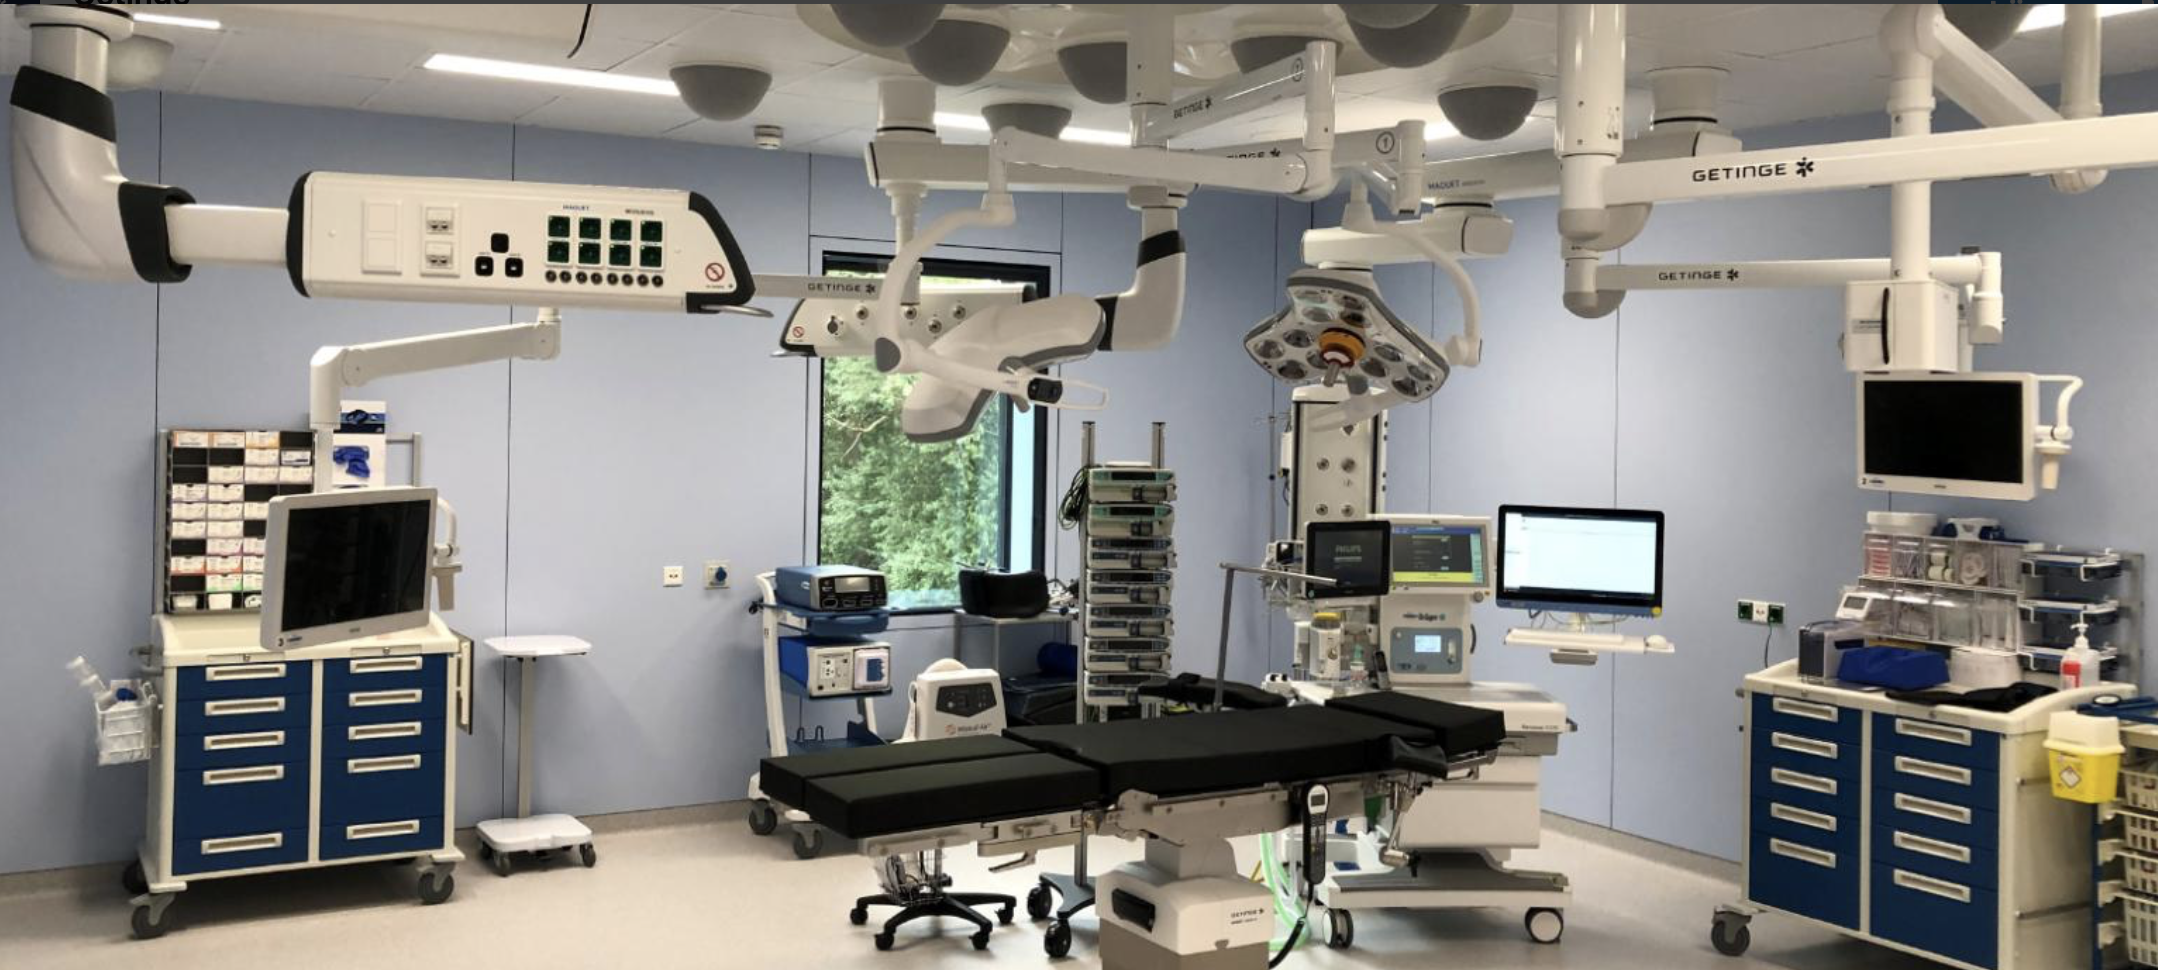bedside_monitor: (252, 486, 443, 662), (1854, 367, 2034, 499), (1391, 509, 1493, 608), (1307, 515, 1390, 596)
computer: (1502, 493, 1680, 618)
electrosurgical_unit: (784, 561, 890, 608)
keyboard: (1513, 626, 1627, 647)
medical_drawer: (1735, 638, 2119, 970), (135, 611, 471, 934)
mouse: (1635, 629, 1672, 654)
operating_bed: (753, 669, 1500, 848)
surgical_light: (1244, 270, 1444, 418)
syringe_pump: (1087, 465, 1177, 499), (1085, 637, 1173, 671), (1083, 671, 1170, 706), (1086, 537, 1175, 570), (1086, 603, 1174, 636), (1087, 504, 1174, 537), (1086, 571, 1173, 603)
